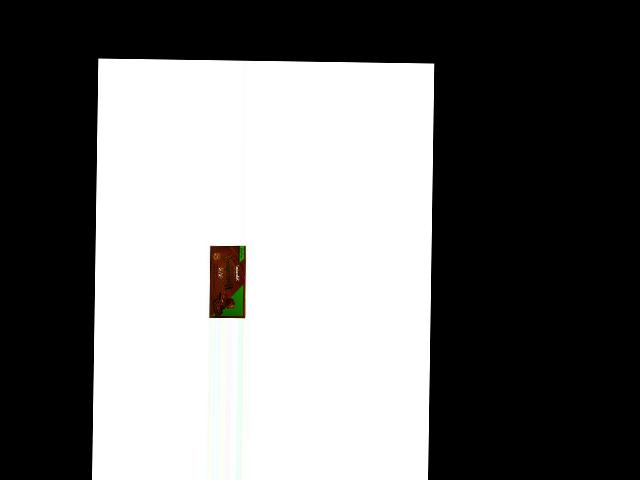chocolate: (207, 243, 249, 319)
